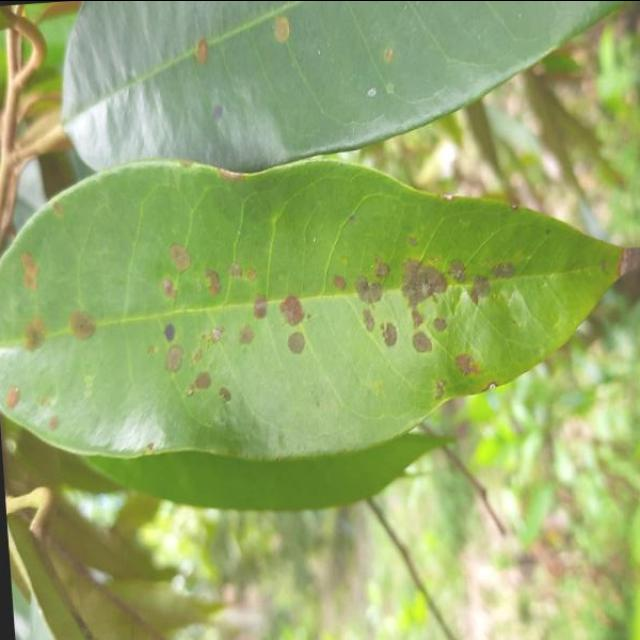Algal Leaf Spot: (0, 120, 640, 490)
